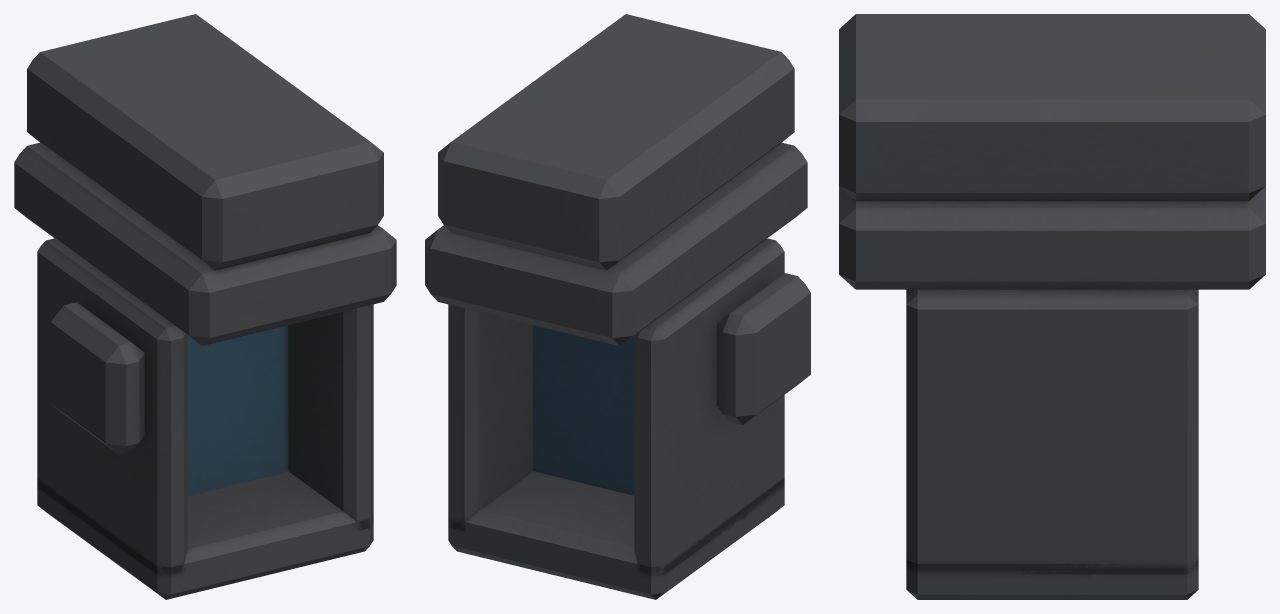
File: AT_HoloSight.fbx
3 views of the same model, side by side, from view 1: azimuth 30°, elevation 25°; view 2: azimuth 150°, elevation 25°; view 3: azimuth 270°, elevation 25° (orthographic). The views are drawn at different scales.
Visible parts, largest first — view 1: AT_HoloSight_export; view 2: AT_HoloSight_export; view 3: AT_HoloSight_export.
Boxes of the visible parts, x1,y1,x2,y2 form: AT_HoloSight_export: (14, 14, 396, 599); AT_HoloSight_export: (425, 14, 810, 599); AT_HoloSight_export: (839, 14, 1265, 599).
Bounding box in the file's own units: 0.0295 × 0.038 × 0.048.
